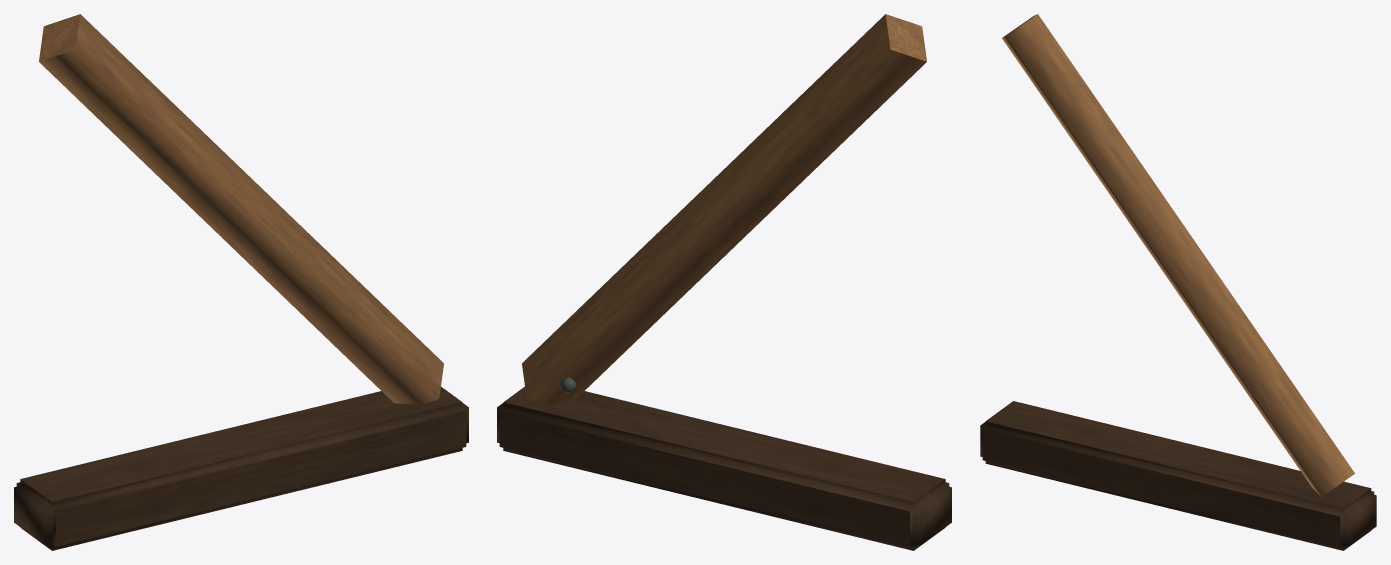
The model's file is timber-brace-1.fbx.
The picture shows the model from 3 angles, left to right: view 1: azimuth 30°, elevation 25°; view 2: azimuth 150°, elevation 25°; view 3: azimuth 330°, elevation 25°; orthographic projection. The views are drawn at different scales.
Parts seen in each view (by area): view 1: timber-brace-1__Geometry; view 2: timber-brace-1__Geometry; view 3: timber-brace-1__Geometry.
Boxes of the visible parts, box(x1,y1,x2,y2) form: timber-brace-1__Geometry: box(14, 14, 468, 550); timber-brace-1__Geometry: box(497, 14, 951, 550); timber-brace-1__Geometry: box(980, 14, 1376, 550).
Bounding box in the file's own units: 1 × 1.16 × 0.16.
1 material, 1 textured.
